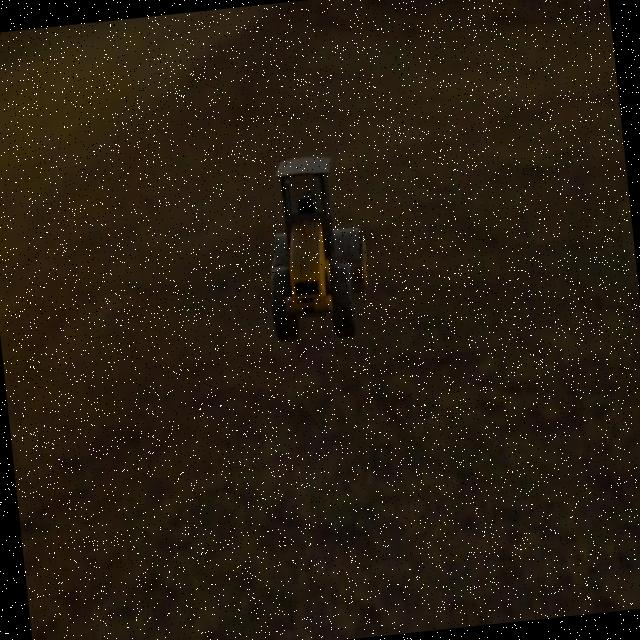Roller: (256, 151, 374, 345)
